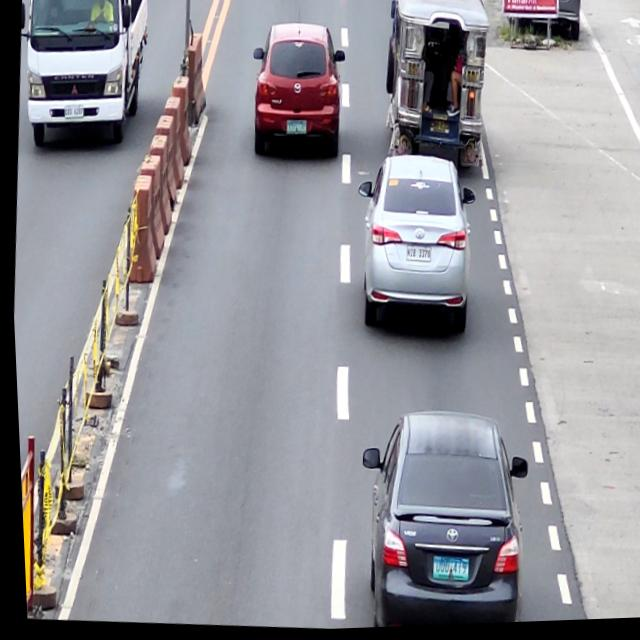Car: (343, 406, 531, 630), (348, 154, 482, 345), (243, 18, 352, 160)
Jeep: (375, 0, 496, 175)
License-Plate: (425, 556, 464, 586), (403, 245, 429, 266), (283, 120, 306, 137), (427, 122, 450, 138)
